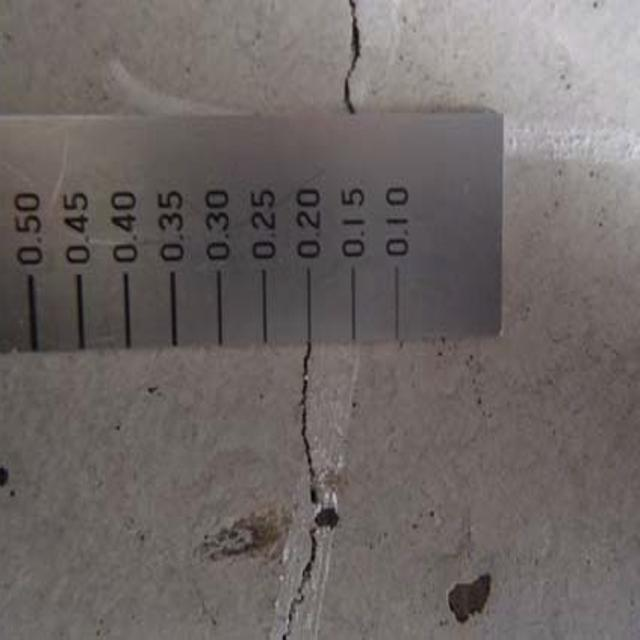crack: (264, 348, 347, 640), (333, 4, 383, 119)
